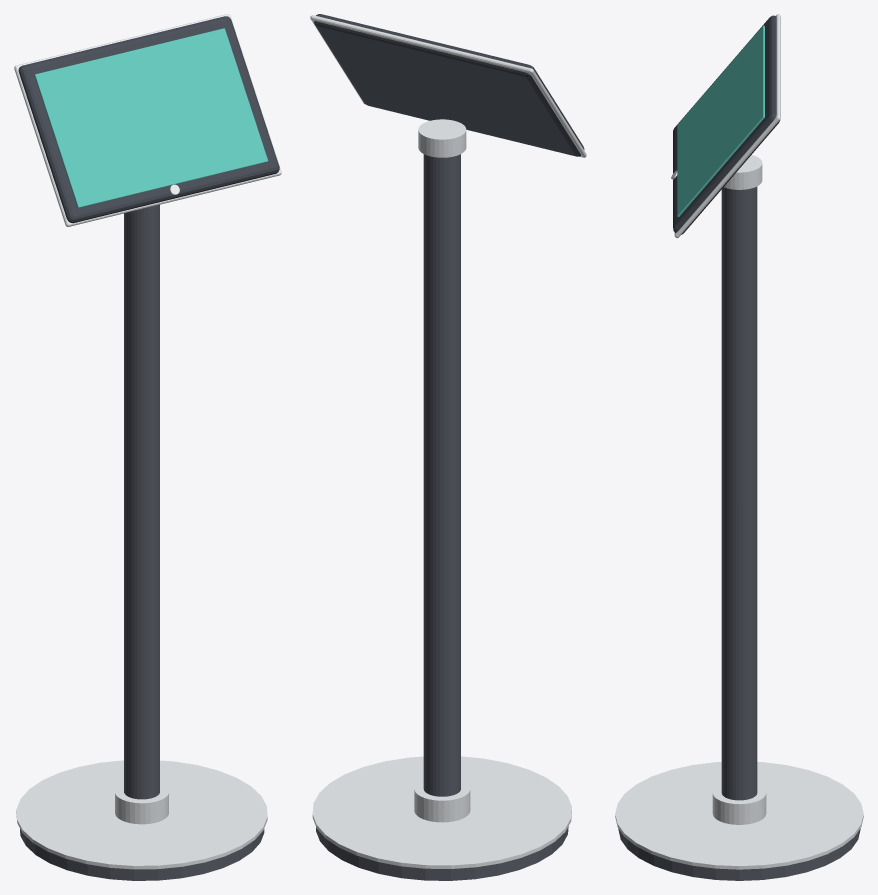
File: Gym_TabletStand.fbx
3 views of the same model, side by side, from view 1: azimuth 30°, elevation 25°; view 2: azimuth 150°, elevation 25°; view 3: azimuth 270°, elevation 25° (orthographic). The views are drawn at different scales.
Parts seen in each view (by area): view 1: Tablet_Screen, Stand_Column, Stand_BaseAccent, Tablet_Bezel, Stand_BasePlate, Tablet_Trim, Stand_Collar_Bot; view 2: Stand_Column, Stand_BaseAccent, Tablet_Bezel, Stand_BasePlate, Tablet_Trim, Stand_Collar_Bot, Stand_Collar_Top; view 3: Stand_Column, Stand_BaseAccent, Tablet_Screen, Tablet_Bezel, Stand_BasePlate, Stand_Collar_Bot, Tablet_Trim, Stand_Collar_Top.
Boxes of the visible parts, x1=… form: Tablet_Screen: x1=34, y1=28, x2=268, y2=207; Stand_Column: x1=124, y1=204, x2=159, y2=799; Stand_BaseAccent: x1=16, y1=760, x2=267, y2=869; Tablet_Bezel: x1=18, y1=16, x2=279, y2=223; Stand_BasePlate: x1=20, y1=829, x2=264, y2=880; Tablet_Trim: x1=14, y1=14, x2=281, y2=226; Stand_Collar_Bot: x1=115, y1=783, x2=168, y2=824; Stand_Column: x1=423, y1=154, x2=460, y2=796; Stand_BaseAccent: x1=312, y1=756, x2=571, y2=868; Tablet_Bezel: x1=314, y1=14, x2=584, y2=156; Stand_BasePlate: x1=316, y1=826, x2=568, y2=880; Tablet_Trim: x1=310, y1=15, x2=586, y2=157; Stand_Collar_Bot: x1=414, y1=780, x2=470, y2=822; Stand_Collar_Top: x1=418, y1=119, x2=466, y2=157; Stand_Column: x1=721, y1=186, x2=757, y2=800; Stand_BaseAccent: x1=615, y1=762, x2=863, y2=869; Tablet_Screen: x1=677, y1=25, x2=764, y2=217; Tablet_Bezel: x1=673, y1=15, x2=780, y2=234; Stand_BasePlate: x1=618, y1=829, x2=860, y2=880; Stand_Collar_Bot: x1=712, y1=784, x2=766, y2=824; Tablet_Trim: x1=674, y1=14, x2=780, y2=238; Stand_Collar_Top: x1=724, y1=155, x2=762, y2=189.
Bounding box in the file's own units: 39 × 132 × 39.
